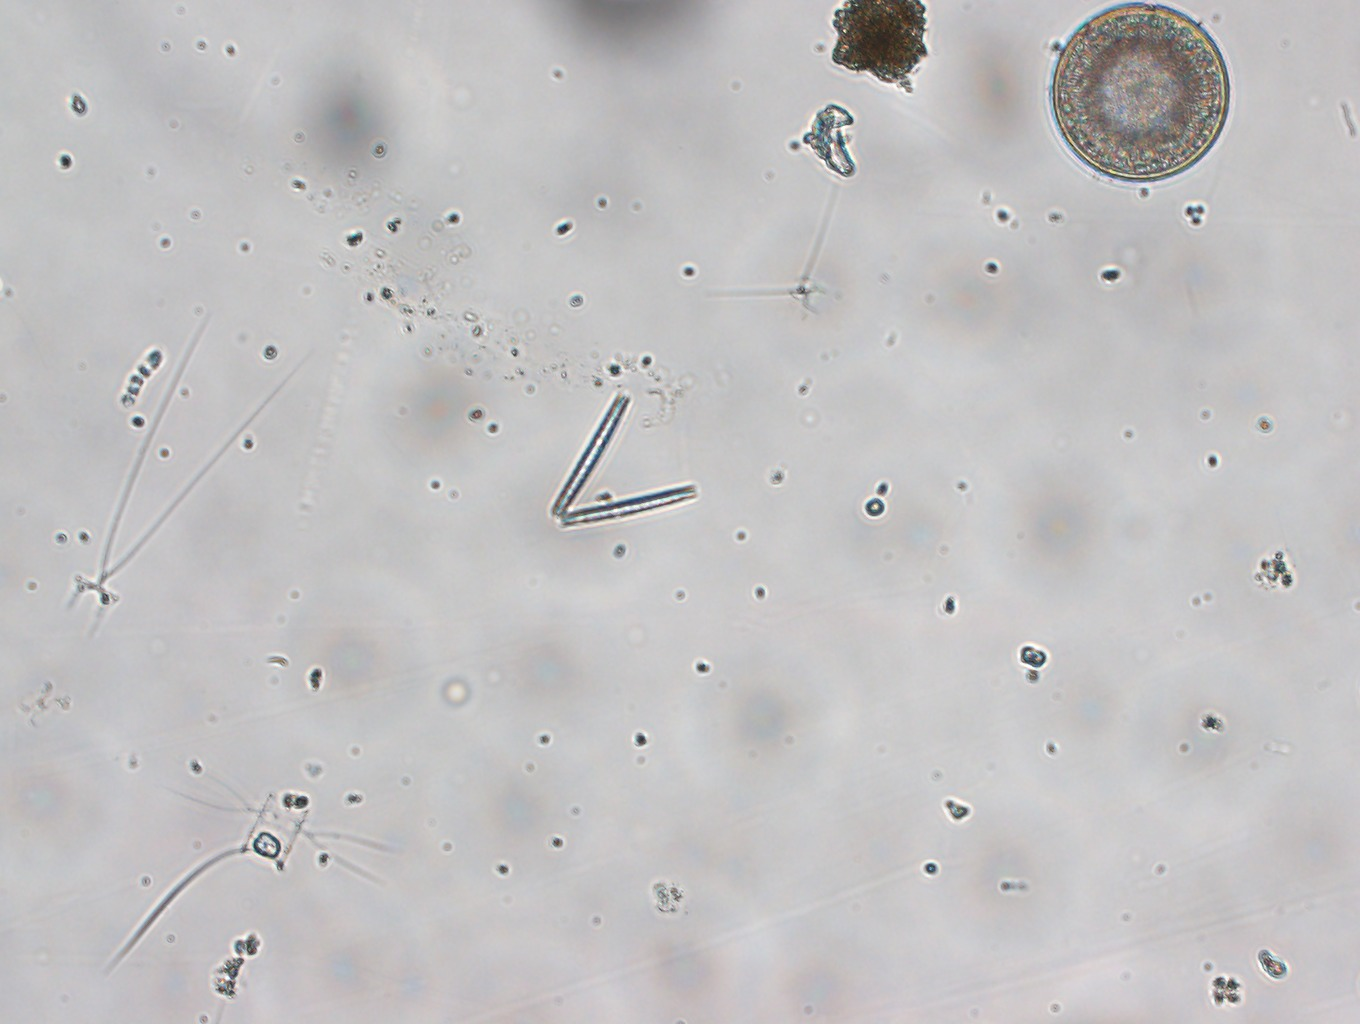chaetoceros: (63, 330, 299, 637), (117, 785, 355, 978)
coscinodiscus: (1039, 1, 1245, 191)
thalassionema frauenfeldii: (546, 395, 704, 540)
